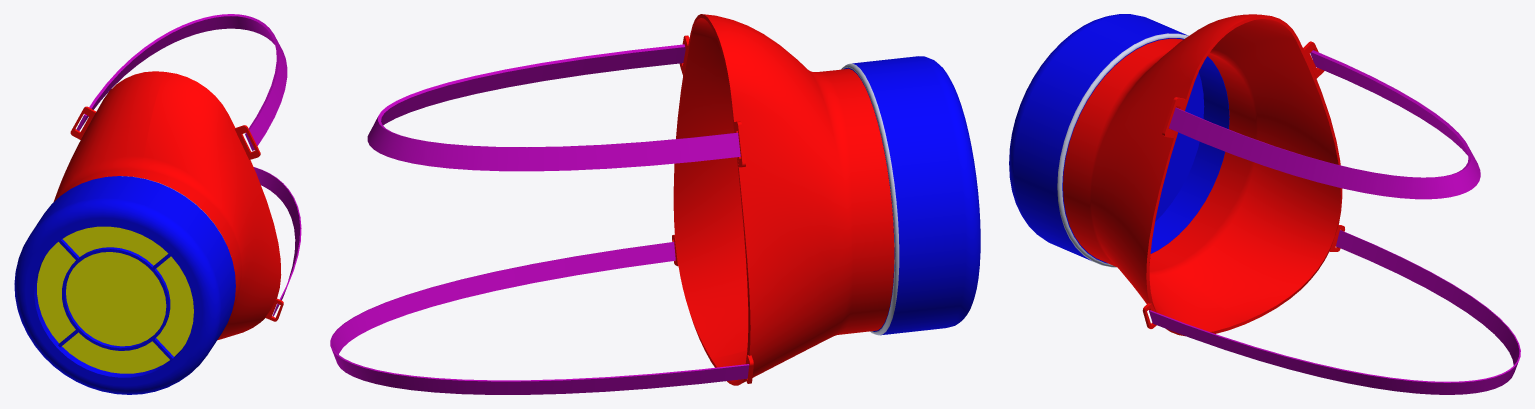
3 views of the same model, side by side, from view 1: azimuth 30°, elevation 25°; view 2: azimuth 150°, elevation 25°; view 3: azimuth 270°, elevation 25° (orthographic). The views are drawn at different scales.
Parts seen in each view (by area): view 1: BRep_3, BRep_2, BRep_1; view 2: BRep_3, BRep_2, BRep_1, BRep_4; view 3: BRep_3, BRep_2, BRep_1, BRep_4.
Boxes of the visible parts, box(x1,y1,x2,y2) form: BRep_3: box(14, 71, 283, 394); BRep_2: box(76, 14, 287, 150); BRep_1: box(253, 167, 301, 316); BRep_3: box(672, 14, 980, 385); BRep_2: box(367, 44, 740, 171); BRep_1: box(330, 242, 749, 394); BRep_4: box(673, 18, 748, 346); BRep_3: box(1009, 14, 1344, 336); BRep_2: box(1169, 50, 1480, 199); BRep_1: box(1149, 230, 1520, 394); BRep_4: box(1149, 257, 1228, 331).
Bounding box in the file's own units: 285 × 191 × 292.
